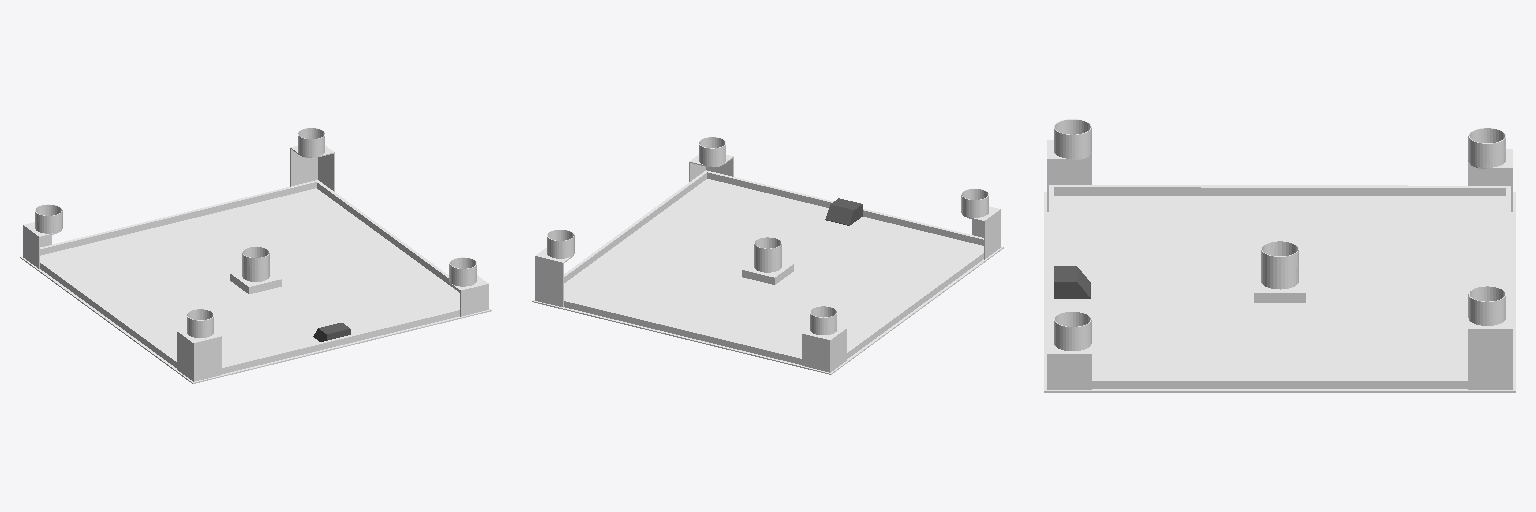
The robot description file, URDF, robot "sw_urdf13":
<?xml version="1.0" encoding="utf-8"?>
<!-- This URDF was automatically created by SolidWorks to URDF Exporter! Originally created by [author] ([email redacted]) 
     Commit Version: 1.5.1-0-g916b5db  Build Version: 1.5.7152.31018
     For more information, please see http://wiki.ros.org/sw_urdf_exporter -->
<robot
  name="sw_urdf13">
  <link
    name="odom">
    <inertial>
      <origin
        xyz="4.4407222368034E-15 2.21230076607051 0.0509566047108596"
        rpy="1.57 0 0" />
      <mass
        value="636.134233847578" />
      <inertia
        ixx="1639.81286905023"
        ixy="-36.6455977200006"
        ixz="-0.782493840000301"
        iyy="1639.91375187705"
        iyz="-5.77195100431517"
        izz="3261.44630486213" />
    </inertial>
    <visual>
      <origin
        xyz="0 0 0"
        rpy="1.57 0 0" />
      <geometry>
        <mesh
          filename="package://sw_urdf13/meshes/odom.STL" />
      </geometry>
      <material
        name="">
        <color
          rgba="1 1 1 1" />
      </material>
    </visual>
    <collision>
      <origin
        xyz="0 0 0"
        rpy="0 0 0" />
      <geometry>
        <mesh
          filename="package://sw_urdf13/meshes/odom.STL" />
      </geometry>
    </collision>
  </link>
  <link
    name="base_link">
    <inertial>
      <origin
        xyz="5.384E-18 0.092429 0.034927"
        rpy="1.57 0 0" />
      <mass
        value="25.964" />
      <inertia
        ixx="0.33603"
        ixy="-1.5806E-17"
        ixz="-7.1291E-17"
        iyy="0.59737"
        iyz="-0.031208"
        izz="0.43104" />
    </inertial>
    <visual>
      <origin
        xyz="0 0 0"
        rpy="1.57 0 0" />
      <geometry>
        <mesh
          filename="package://sw_urdf13/meshes/base_link.STL" />
      </geometry>
      <material
        name="">
        <color
          rgba="0.43922 0.43922 0.43922 1" />
      </material>
    </visual>
    <collision>
      <origin
        xyz="0 0 0"
        rpy="0 0 0" />
      <geometry>
        <mesh
          filename="package://sw_urdf13/meshes/base_link.STL" />
      </geometry>
    </collision>
  </link>
  <joint
    name="1"
    type="fixed">
    <origin
      xyz="0 0 0"
      rpy="0 0 0" />
    <parent
      link="odom" />
    <child
      link="base_link" />
    <axis
      xyz="0 0 0" />
  </joint>
</robot>

--- Facts derived from the render (not from the file) ---
The picture shows the robot from 3 angles, left to right: view 1: azimuth 30°, elevation 25°; view 2: azimuth 150°, elevation 25°; view 3: azimuth 270°, elevation 25°; orthographic projection.
Model sw_urdf13 with 2 links and 1 joints (1 fixed), rooted at odom, posed every joint at zero.
Links seen in each view (by area): view 1: odom; view 2: odom, base_link; view 3: odom, base_link.
Boxes of the visible links, <box> form: odom: <box>20,128,491,383</box>; odom: <box>532,137,1003,374</box>; base_link: <box>825,198,862,225</box>; odom: <box>1044,119,1515,392</box>; base_link: <box>1054,266,1090,298</box>.
Size in the robot's own frame: 5 by 5 by 1.02 metres.
Meshes: 2 distinct files referenced, 2 mesh visuals loaded (2 binary STL).